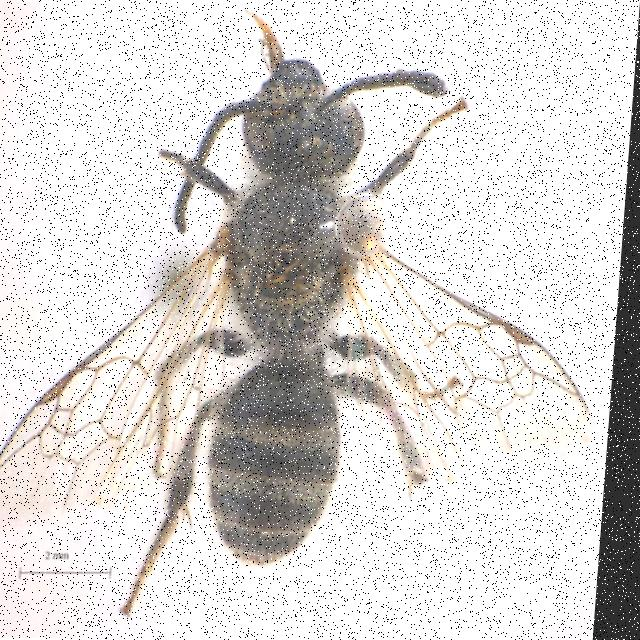Lasioglossum: (64, 9, 544, 588)
